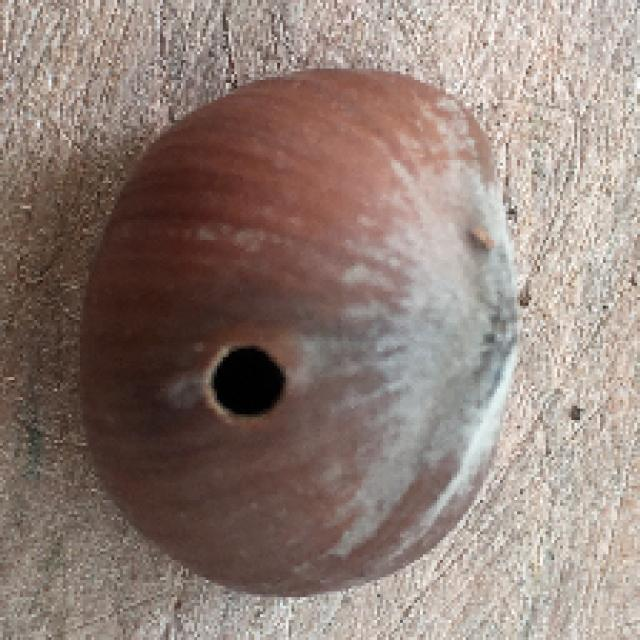damagedHazelnut: (75, 68, 535, 589)
